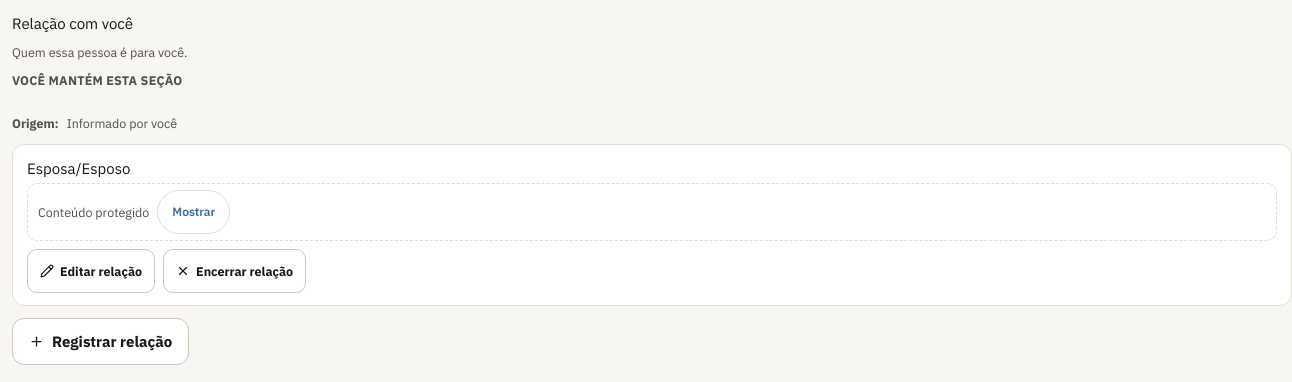
Test: RelationshipPanel › withholds the owner's own sentence by default, and reveals it only when asked
Expected: the text "casamos em Recife" is not shown
Step 1. Click the button "Mostrar" → (194, 212), box top-left (157, 190), bottom-right (230, 234)
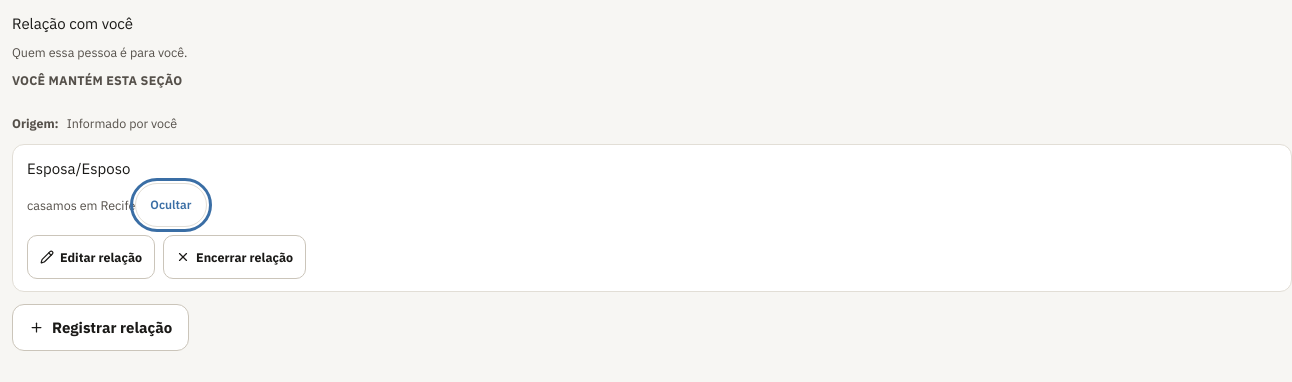
Expected: the text "casamos em Recife" is shown, top-left (27, 196), bottom-right (135, 212)
